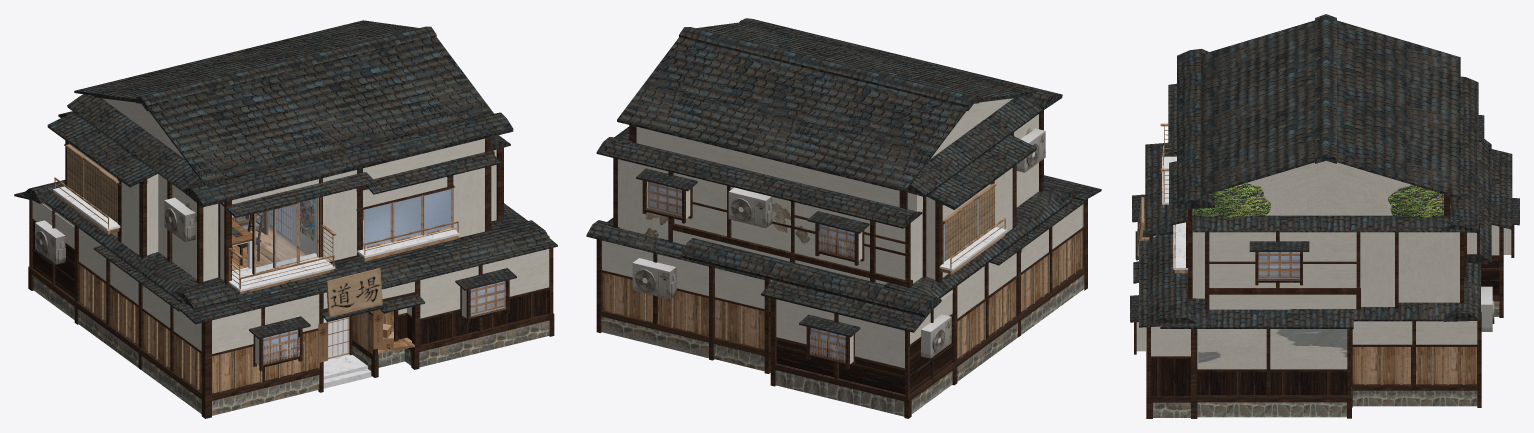
3 renders of one model, left to right at view 1: azimuth 30°, elevation 25°; view 2: azimuth 150°, elevation 25°; view 3: azimuth 270°, elevation 25°, orthographic.
Visible parts, largest first — view 1: House_Material #43_0, House_Material #42_0, House_Material #57_0, House_Material #56_0, House_Material #41_0, House_Material #63_0 (×2), House_Material #79_0, House_Material #81_0, House_Material #0_0, House_Material #55_0, House_Material #625_0, House_Material #77_0 (+2 smaller); view 2: House_Material #43_0, House_Material #42_0, House_Material #57_0, House_Material #56_0, House_Material #41_0, House_Material #63_0, House_Material #55_0, House_Material #77_0, House_Material #25_0, House_Material #0_0, House_Material #81_0, House_Material #79_0 (+1 smaller); view 3: House_Material #43_0, House_Material #42_0, House_Material #57_0, House_Material #149_0, House_Material #55_0, House_Material #41_0, House_Material #56_0, foliage_Material #25_0, House_Material #25_0, House_Material #79_0, House_Material #81_0, House_Material #63_0 (+1 smaller).
Boxes of the visible parts, bbox=[...] form: House_Material #43_0: bbox=[14, 20, 557, 339]; House_Material #42_0: bbox=[32, 98, 549, 365]; House_Material #57_0: bbox=[28, 137, 554, 418]; House_Material #56_0: bbox=[54, 160, 458, 393]; House_Material #41_0: bbox=[33, 210, 549, 415]; House_Material #63_0 (×2): bbox=[35, 197, 393, 362]; House_Material #79_0: bbox=[53, 186, 459, 388]; House_Material #81_0: bbox=[83, 159, 504, 363]; House_Material #0_0: bbox=[65, 144, 382, 316]; House_Material #55_0: bbox=[32, 221, 548, 367]; House_Material #625_0: bbox=[256, 198, 316, 272]; House_Material #77_0: bbox=[83, 267, 319, 392]; House_Material #43_0: bbox=[586, 18, 1101, 337]; House_Material #42_0: bbox=[602, 98, 1083, 368]; House_Material #57_0: bbox=[596, 110, 1087, 418]; House_Material #56_0: bbox=[602, 218, 1083, 358]; House_Material #41_0: bbox=[601, 274, 1084, 416]; House_Material #63_0: bbox=[632, 128, 1045, 358]; House_Material #55_0: bbox=[645, 210, 952, 394]; House_Material #77_0: bbox=[612, 230, 1082, 356]; House_Material #25_0: bbox=[646, 182, 854, 361]; House_Material #0_0: bbox=[942, 183, 996, 261]; House_Material #81_0: bbox=[647, 182, 978, 360]; House_Material #79_0: bbox=[939, 227, 1006, 271]; House_Material #43_0: bbox=[1130, 14, 1519, 328]; House_Material #42_0: bbox=[1136, 161, 1511, 356]; House_Material #57_0: bbox=[1134, 194, 1514, 418]; House_Material #149_0: bbox=[1197, 329, 1347, 369]; House_Material #55_0: bbox=[1151, 261, 1499, 396]; House_Material #41_0: bbox=[1153, 301, 1499, 417]; House_Material #56_0: bbox=[1160, 123, 1476, 384]; foliage_Material #25_0: bbox=[1193, 182, 1451, 218]; House_Material #25_0: bbox=[1258, 252, 1299, 280]; House_Material #79_0: bbox=[1162, 156, 1187, 269]; House_Material #81_0: bbox=[1258, 252, 1299, 278]; House_Material #63_0: bbox=[1481, 286, 1494, 331].
Size of the model in its own units: 0.9603 by 0.6391 by 0.9019.
17 materials, 17 textured.
